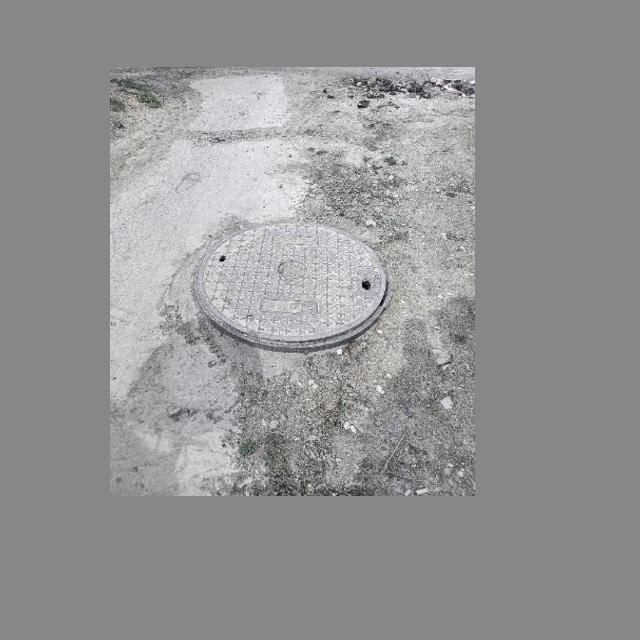good: (194, 220, 392, 351)
